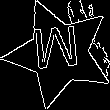M_S: (34, 26, 85, 81)
